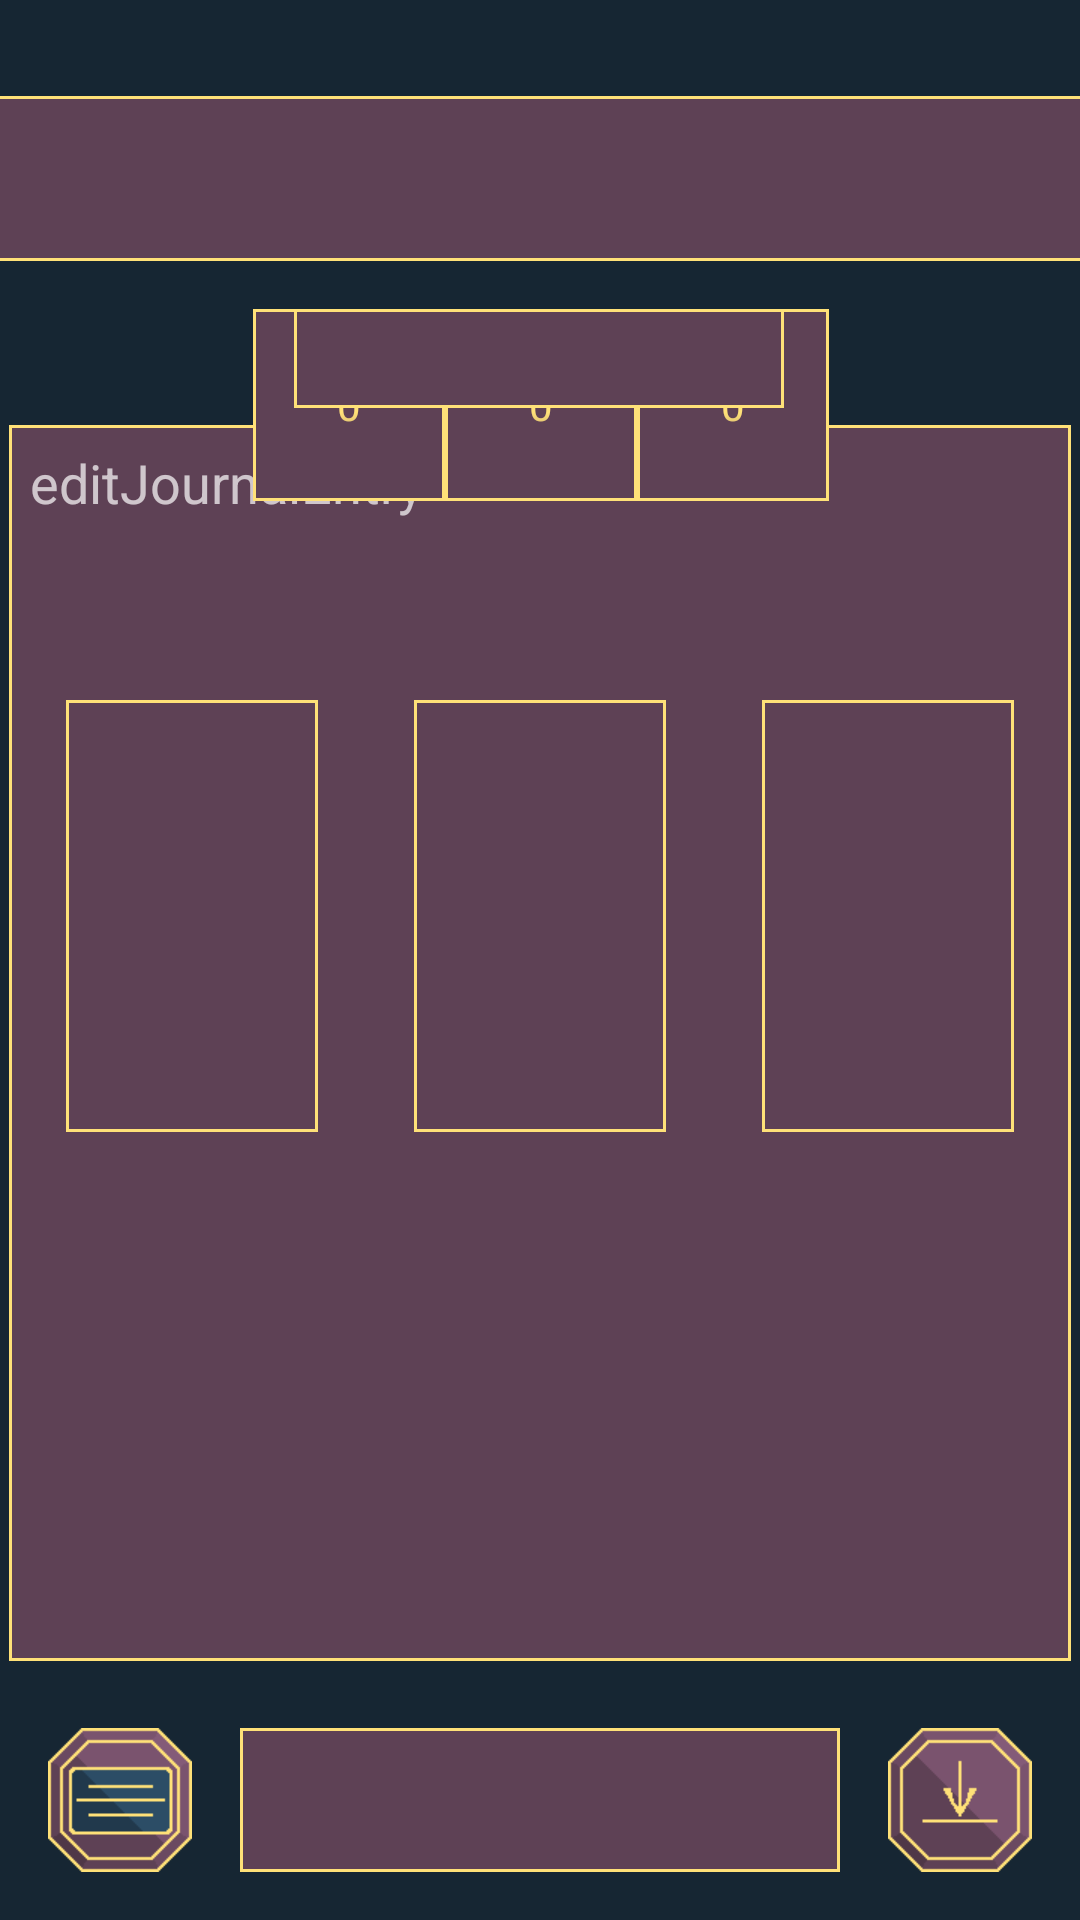

Where icons sit on this 1080*1920 app screen, as box=[x1, y1, x2, y2]:
save: box=[888, 1728, 1032, 1872]
